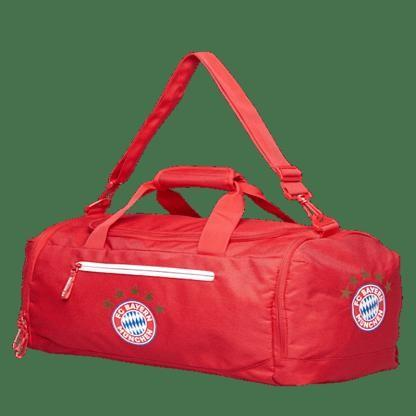not trash: (16, 58, 401, 381)
